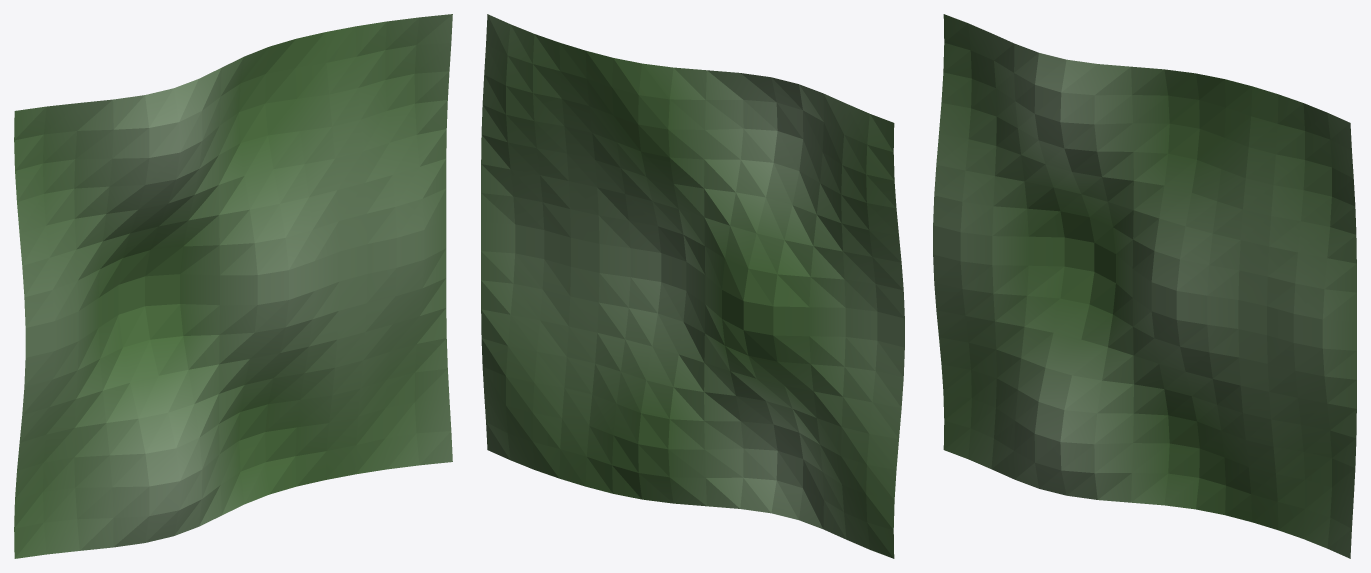
File: hilly_terrain.glb
3 renders of one model, left to right at view 1: azimuth 30°, elevation 25°; view 2: azimuth 150°, elevation 25°; view 3: azimuth 330°, elevation 25°, orthographic. The views are drawn at different scales.
Parts seen in each view (by area): view 1: geometry_0; view 2: geometry_0; view 3: geometry_0.
Part boxes in pixels (left/top/right/bottom): geometry_0: left=14, top=14, right=452, bottom=558; geometry_0: left=481, top=14, right=904, bottom=558; geometry_0: left=933, top=14, right=1356, bottom=558.
Bounding box in the file's own units: 3 × 3 × 0.4245.
